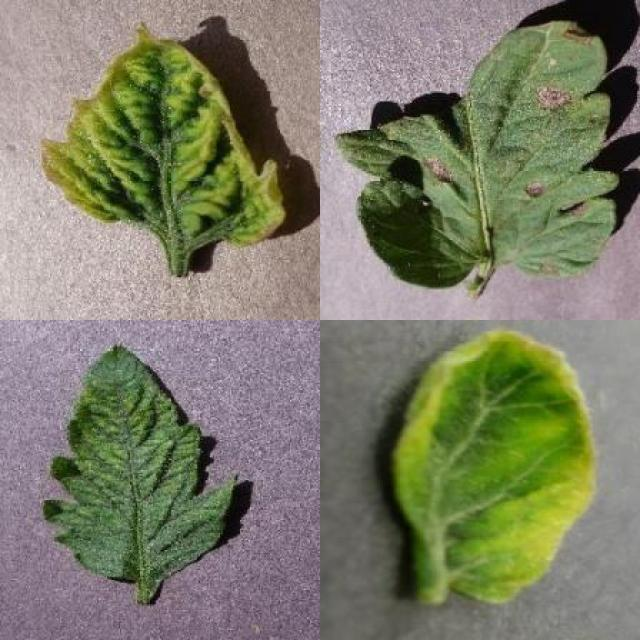Early Blight: (337, 18, 619, 292)
Mosaic Virus: (38, 345, 238, 585)
Yellow Leaf Curl Virus: (391, 330, 598, 607), (43, 22, 286, 248)
